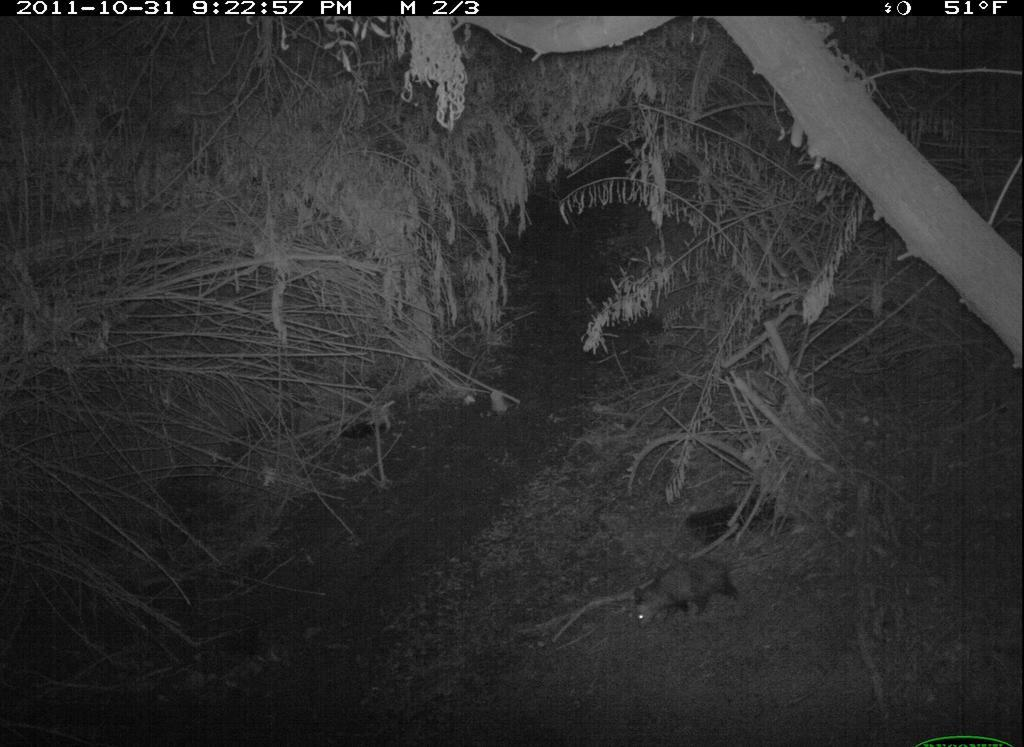opossum: (629, 548, 748, 632)
